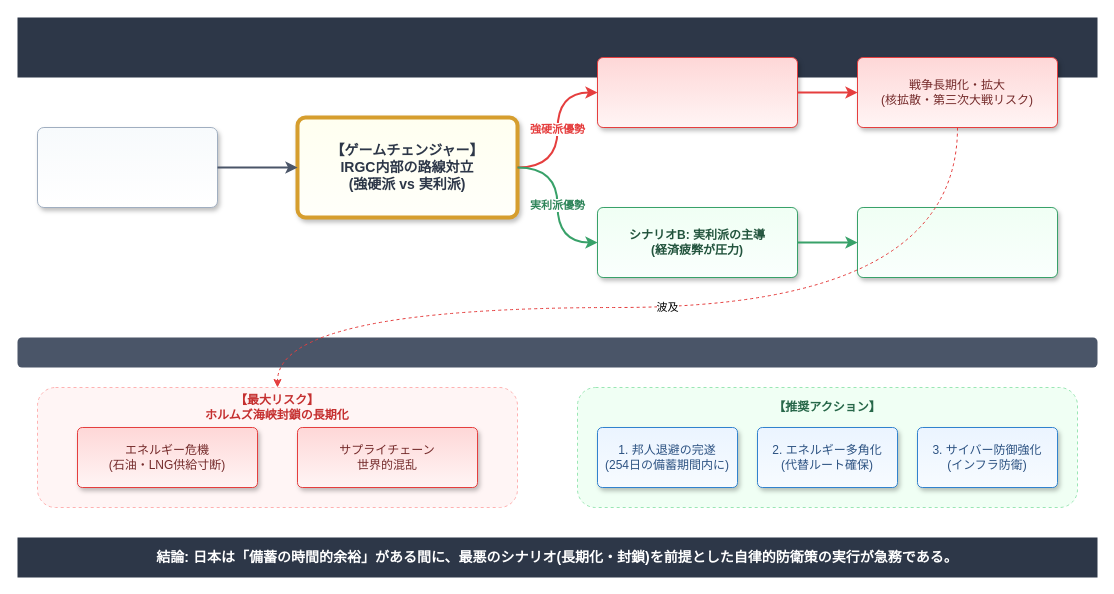
This 1114x594 diagram has some shape labels left out. The shapes that lost their labels are listed below. From the top down, each one's centre as x and y in pixels, then its label:
[557,47]: イラン戦争収束の鍵と日本への影響分析 (2026.03.14)
[698,93]: シナリオA: 強硬派の台頭 「安全保障共和国」化
[128,168]: 【現状: 2026.3.1】 ハメネイ師死去による 権力の空白と混乱
[958,243]: 停戦交渉への転換 (体制存続を優先)
[557,352]: 日本への影響と戦略的対応
